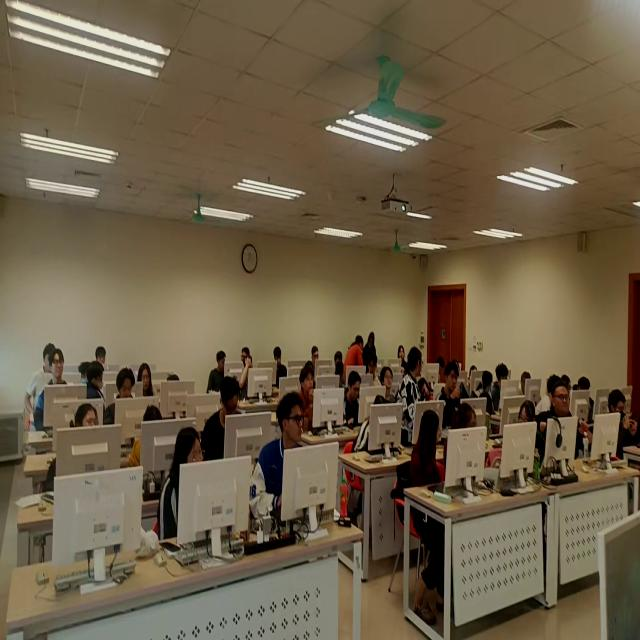raise_hand: (240, 354, 260, 401)
raise_head: (249, 392, 312, 535), (161, 423, 211, 549), (45, 395, 103, 490), (32, 349, 74, 439), (538, 382, 578, 473), (19, 337, 55, 422), (292, 365, 322, 432), (436, 363, 464, 419), (377, 366, 400, 415), (91, 342, 111, 374), (395, 342, 408, 364)
stand: (398, 347, 425, 428), (344, 329, 367, 383), (364, 323, 379, 364)
using_computer: (203, 379, 242, 466), (451, 401, 487, 477), (131, 403, 166, 475), (107, 368, 138, 435), (343, 370, 366, 434), (136, 356, 158, 414), (161, 368, 183, 420), (540, 369, 560, 425), (205, 349, 231, 391), (574, 372, 594, 415), (272, 345, 289, 382), (308, 339, 325, 371), (433, 351, 448, 385), (465, 363, 479, 398), (334, 344, 347, 369), (563, 370, 573, 396)
using_phone: (603, 386, 640, 461)
